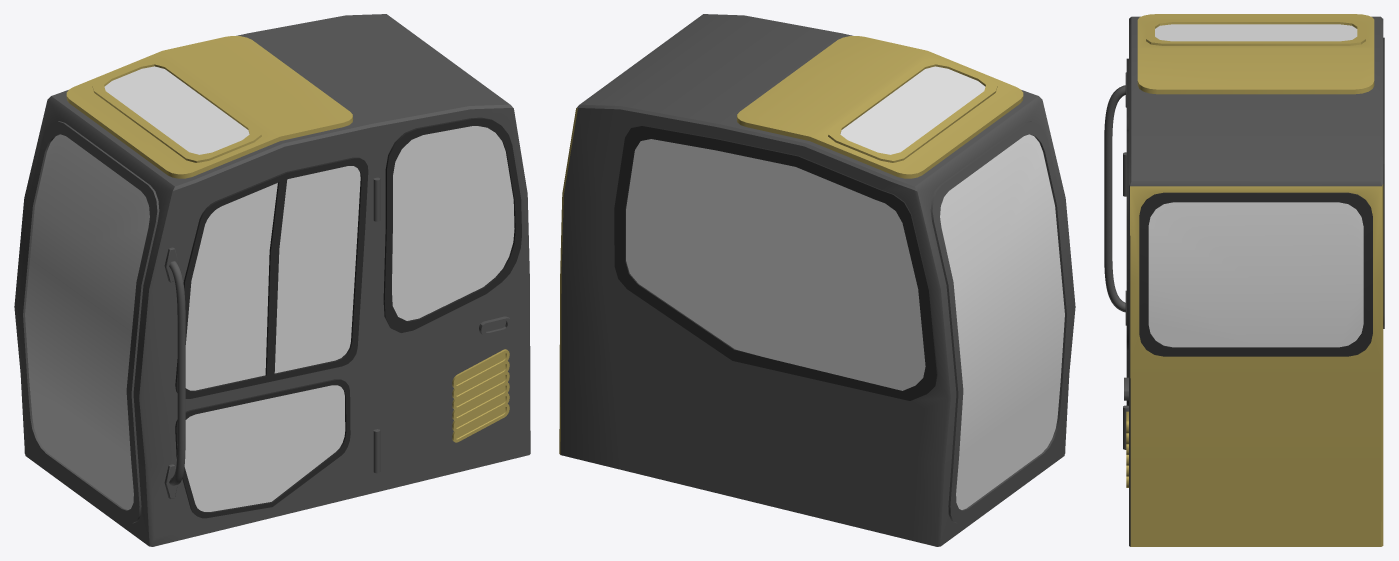
The model's file is Cabin.fbx.
3 renders of one model, left to right at view 1: azimuth 30°, elevation 25°; view 2: azimuth 150°, elevation 25°; view 3: azimuth 270°, elevation 25°, orthographic.
Parts seen in each view (by area): view 1: Cube, Cube.010, NurbsPath; view 2: Cube; view 3: Cube, NurbsPath.
Boxes of the visible parts, x1,y1,x2,y2 form: Cube: [14, 14, 530, 546]; Cube.010: [452, 349, 509, 442]; NurbsPath: [169, 261, 185, 485]; Cube: [559, 14, 1075, 546]; Cube: [1126, 14, 1384, 546]; NurbsPath: [1104, 85, 1125, 312].
Size of the model in its own units: 293 by 267 by 179.
